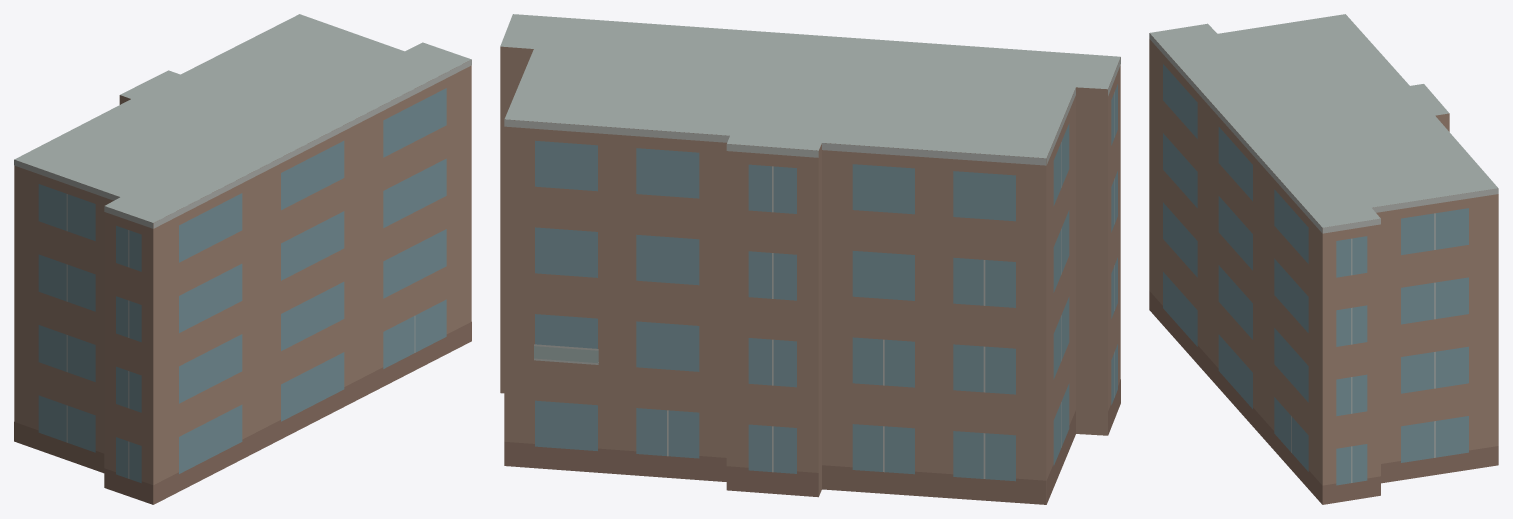
File: survey-upis-32947430.glb
3 views of the same model, side by side, from view 1: azimuth 30°, elevation 25°; view 2: azimuth 150°, elevation 25°; view 3: azimuth 270°, elevation 25° (orthographic). The views are drawn at different scales.
Visible parts, largest first — view 1: survey-upis-32947430.tmp; view 2: survey-upis-32947430.tmp; view 3: survey-upis-32947430.tmp.
Boxes of the visible parts, x1,y1,x2,y2 form: survey-upis-32947430.tmp: (14, 14, 471, 504); survey-upis-32947430.tmp: (500, 14, 1120, 504); survey-upis-32947430.tmp: (1149, 14, 1498, 504).
Bounding box in the file's own units: 19.21 × 11.6 × 13.25.
